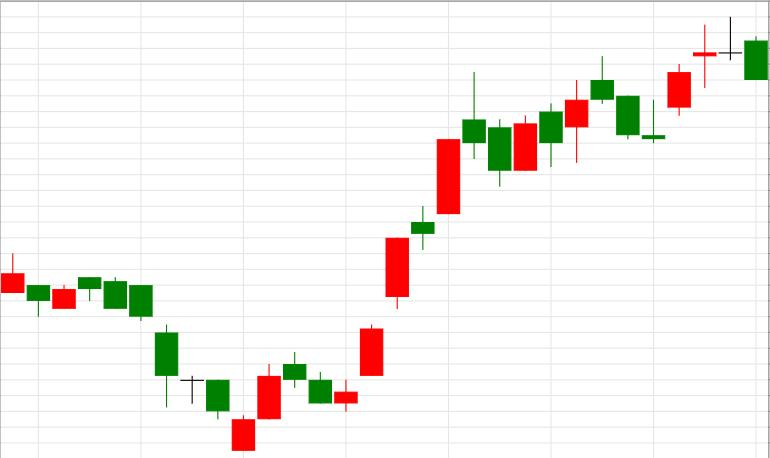shooting_star_fall: (334, 73, 486, 411)
